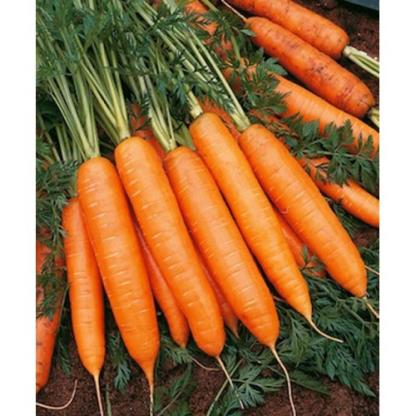--: (110, 134, 224, 358), (165, 139, 277, 344), (241, 118, 366, 299)
